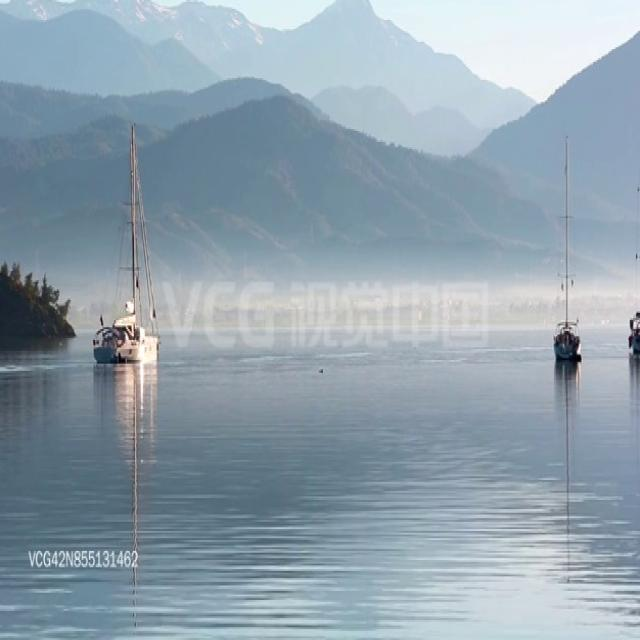sailboat: (95, 115, 163, 368), (551, 120, 586, 366), (627, 101, 640, 356)
